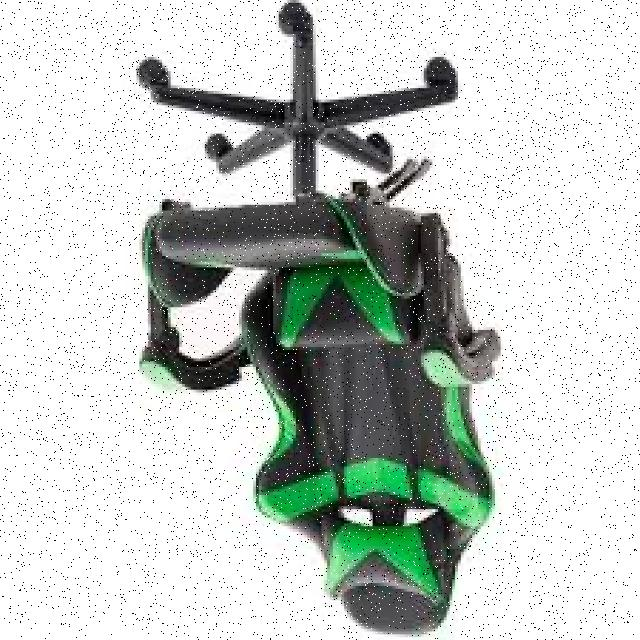bottle: (134, 0, 507, 636)
